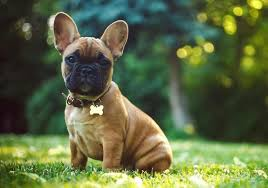Bulldog: (30, 9, 187, 179)
